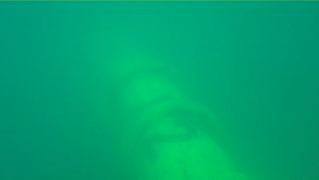2: (139, 117, 197, 164)
pipe: (94, 1, 249, 179)
